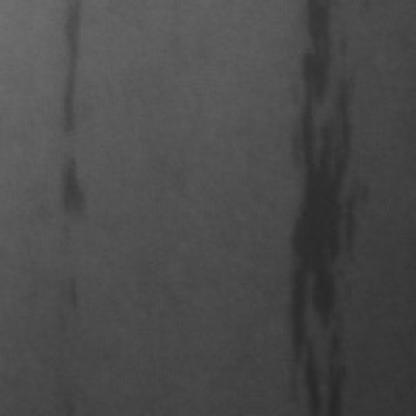inclusion: (281, 0, 364, 410), (47, 0, 91, 137), (46, 154, 89, 241), (58, 268, 90, 322)
